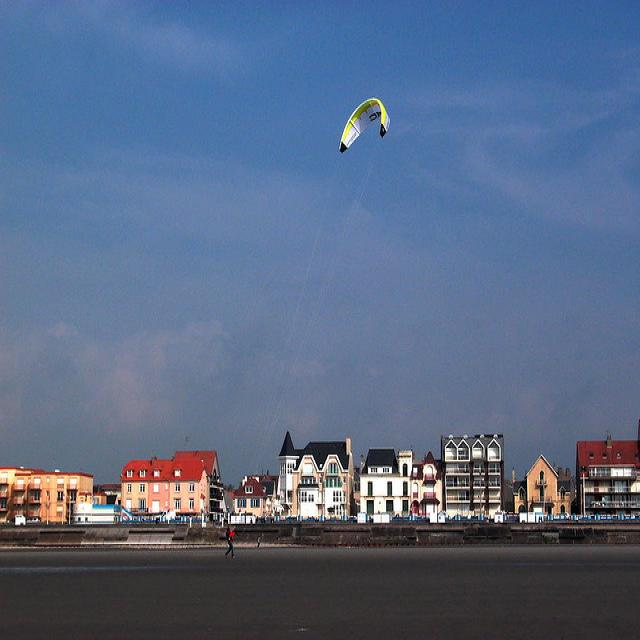Vehicle: (27, 516, 40, 524), (348, 517, 358, 522)
